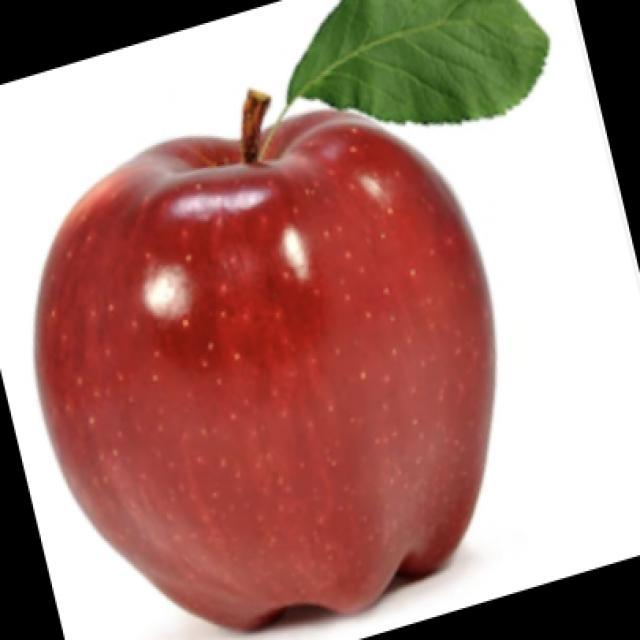Fresh Apple: (48, 108, 487, 620)
